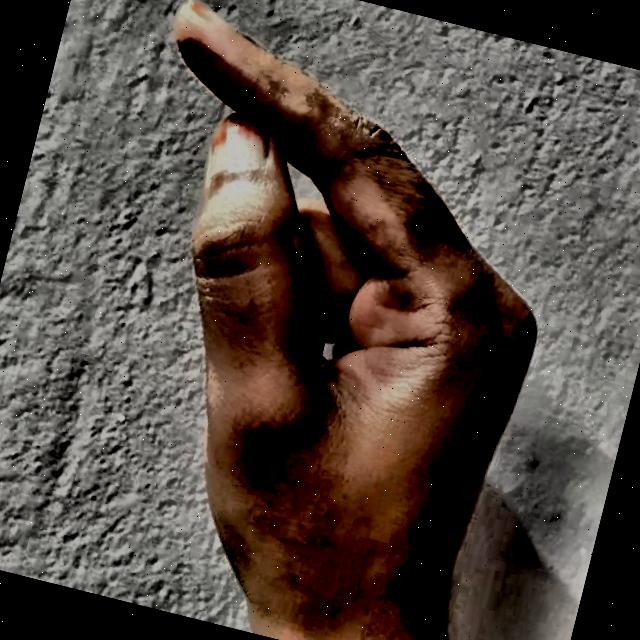Tha: (12, 0, 633, 640)
